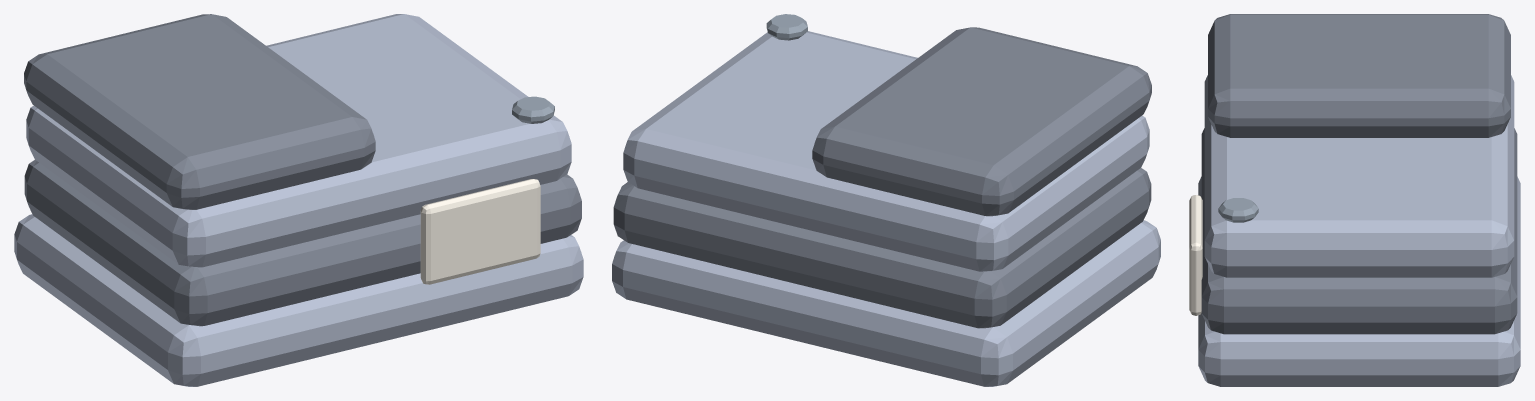
File: tarp.glb
The picture shows the model from 3 angles, left to right: view 1: azimuth 30°, elevation 25°; view 2: azimuth 150°, elevation 25°; view 3: azimuth 270°, elevation 25°; orthographic projection. The views are drawn at different scales.
Visible parts, largest first — view 1: tarp; view 2: tarp; view 3: tarp.
Boxes of the visible parts, x1,y1,x2,y2 form: tarp: (14, 14, 583, 386); tarp: (612, 14, 1160, 386); tarp: (1189, 14, 1520, 386).
Size of the model in its own units: 0.9802 by 0.51 by 0.74.
